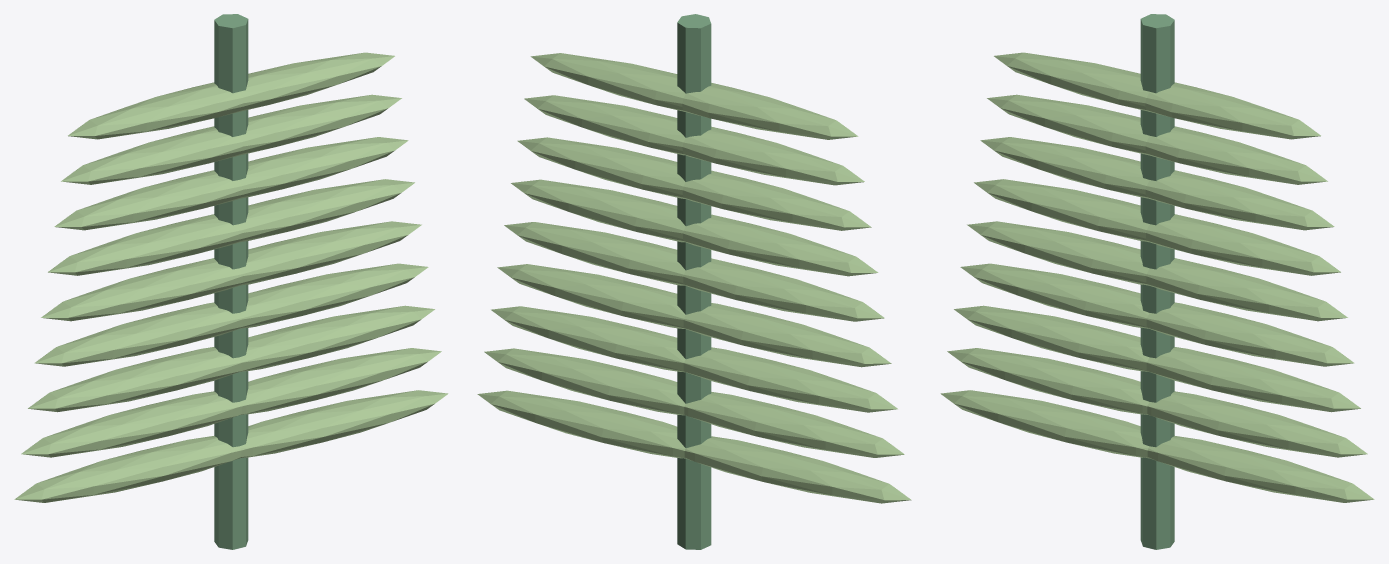
The model's file is fern.glb.
The picture shows the model from 3 angles, left to right: view 1: azimuth 30°, elevation 25°; view 2: azimuth 150°, elevation 25°; view 3: azimuth 330°, elevation 25°; orthographic projection.
Visible parts, largest first — view 1: Core, Frond_0_-1, Frond_1_-1, Frond_2_-1, Frond_0_1, Frond_3_-1, Frond_1_1, Frond_4_-1, Frond_2_1, Frond_5_-1, Frond_3_1, Frond_6_-1 (+7 smaller); view 2: Core, Frond_0_-1, Frond_1_-1, Frond_2_-1, Frond_0_1, Frond_3_-1, Frond_1_1, Frond_4_-1, Frond_2_1, Frond_5_-1, Frond_3_1, Frond_6_-1 (+7 smaller); view 3: Core, Frond_0_1, Frond_1_1, Frond_2_1, Frond_0_-1, Frond_3_1, Frond_1_-1, Frond_4_1, Frond_2_-1, Frond_5_1, Frond_3_-1, Frond_6_1 (+7 smaller).
Boxes of the visible parts, left/top/right/bottom form: Core: left=214, top=14, right=248, bottom=549; Frond_0_-1: left=14, top=436, right=241, bottom=502; Frond_1_-1: left=21, top=391, right=241, bottom=457; Frond_2_-1: left=28, top=347, right=242, bottom=412; Frond_0_1: left=239, top=390, right=448, bottom=458; Frond_3_-1: left=34, top=302, right=242, bottom=366; Frond_1_1: left=239, top=348, right=441, bottom=414; Frond_4_-1: left=41, top=258, right=242, bottom=321; Frond_2_1: left=239, top=305, right=434, bottom=371; Frond_5_-1: left=48, top=214, right=242, bottom=275; Frond_3_1: left=239, top=263, right=428, bottom=328; Frond_6_-1: left=54, top=170, right=243, bottom=230; Core: left=677, top=14, right=711, bottom=549; Frond_0_-1: left=684, top=436, right=911, bottom=503; Frond_1_-1: left=684, top=392, right=904, bottom=457; Frond_2_-1: left=683, top=347, right=897, bottom=412; Frond_0_1: left=477, top=390, right=685, bottom=458; Frond_3_-1: left=683, top=303, right=891, bottom=367; Frond_1_1: left=484, top=348, right=685, bottom=415; Frond_4_-1: left=683, top=258, right=884, bottom=321; Frond_2_1: left=491, top=306, right=685, bottom=372; Frond_5_-1: left=683, top=214, right=878, bottom=276; Frond_3_1: left=497, top=264, right=685, bottom=328; Frond_6_-1: left=682, top=170, right=871, bottom=230; Core: left=1140, top=14, right=1174, bottom=549; Frond_0_1: left=1147, top=436, right=1374, bottom=502; Frond_1_1: left=1147, top=391, right=1367, bottom=457; Frond_2_1: left=1146, top=347, right=1360, bottom=412; Frond_0_-1: left=940, top=390, right=1149, bottom=458; Frond_3_1: left=1146, top=302, right=1354, bottom=366; Frond_1_-1: left=947, top=348, right=1149, bottom=414; Frond_4_1: left=1146, top=258, right=1347, bottom=321; Frond_2_-1: left=954, top=305, right=1149, bottom=371; Frond_5_1: left=1146, top=214, right=1340, bottom=275; Frond_3_-1: left=960, top=263, right=1149, bottom=328; Frond_6_1: left=1145, top=170, right=1334, bottom=230.
Bounding box in the file's own units: 1.09 × 1.25 × 0.114.
